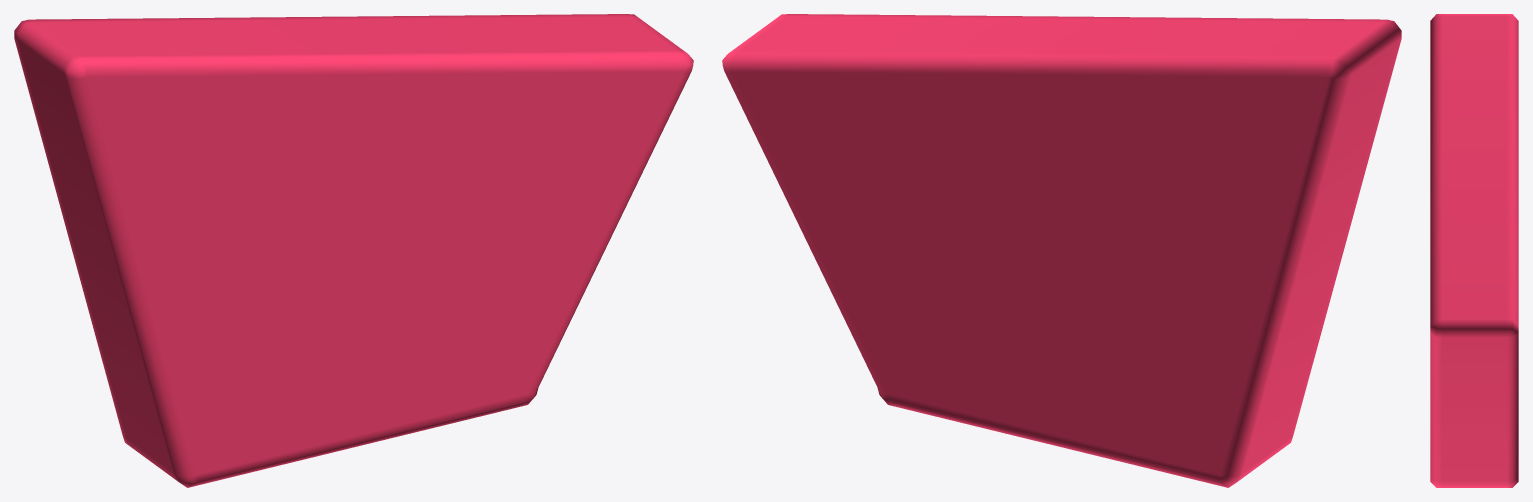
Rendered from handr_remote.obj.
3 renders of one model, left to right at view 1: azimuth 30°, elevation 25°; view 2: azimuth 150°, elevation 25°; view 3: azimuth 270°, elevation 25°, orthographic. The views are drawn at different scales.
Parts seen in each view (by area): view 1: handr_remote.obj; view 2: handr_remote.obj; view 3: handr_remote.obj.
Part boxes in pixels (left/top/right/bottom): handr_remote.obj: left=14, top=14, right=693, bottom=487; handr_remote.obj: left=722, top=14, right=1401, bottom=487; handr_remote.obj: left=1430, top=14, right=1518, bottom=487.
Size of the model in its own units: 0.8644 by 0.6 by 0.15.
